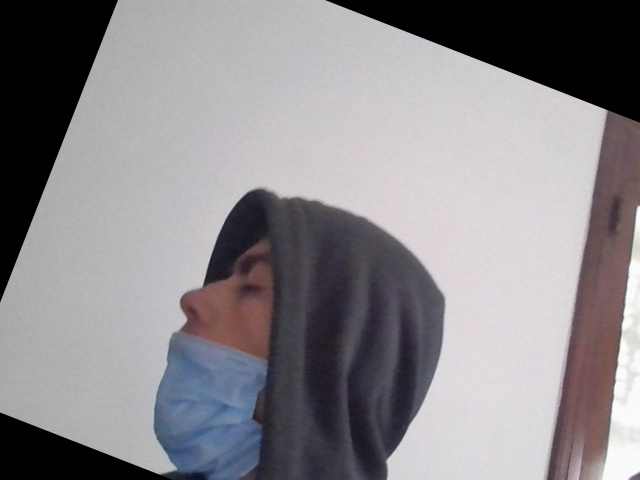mask_weared_incorrect: (138, 222, 332, 480)
